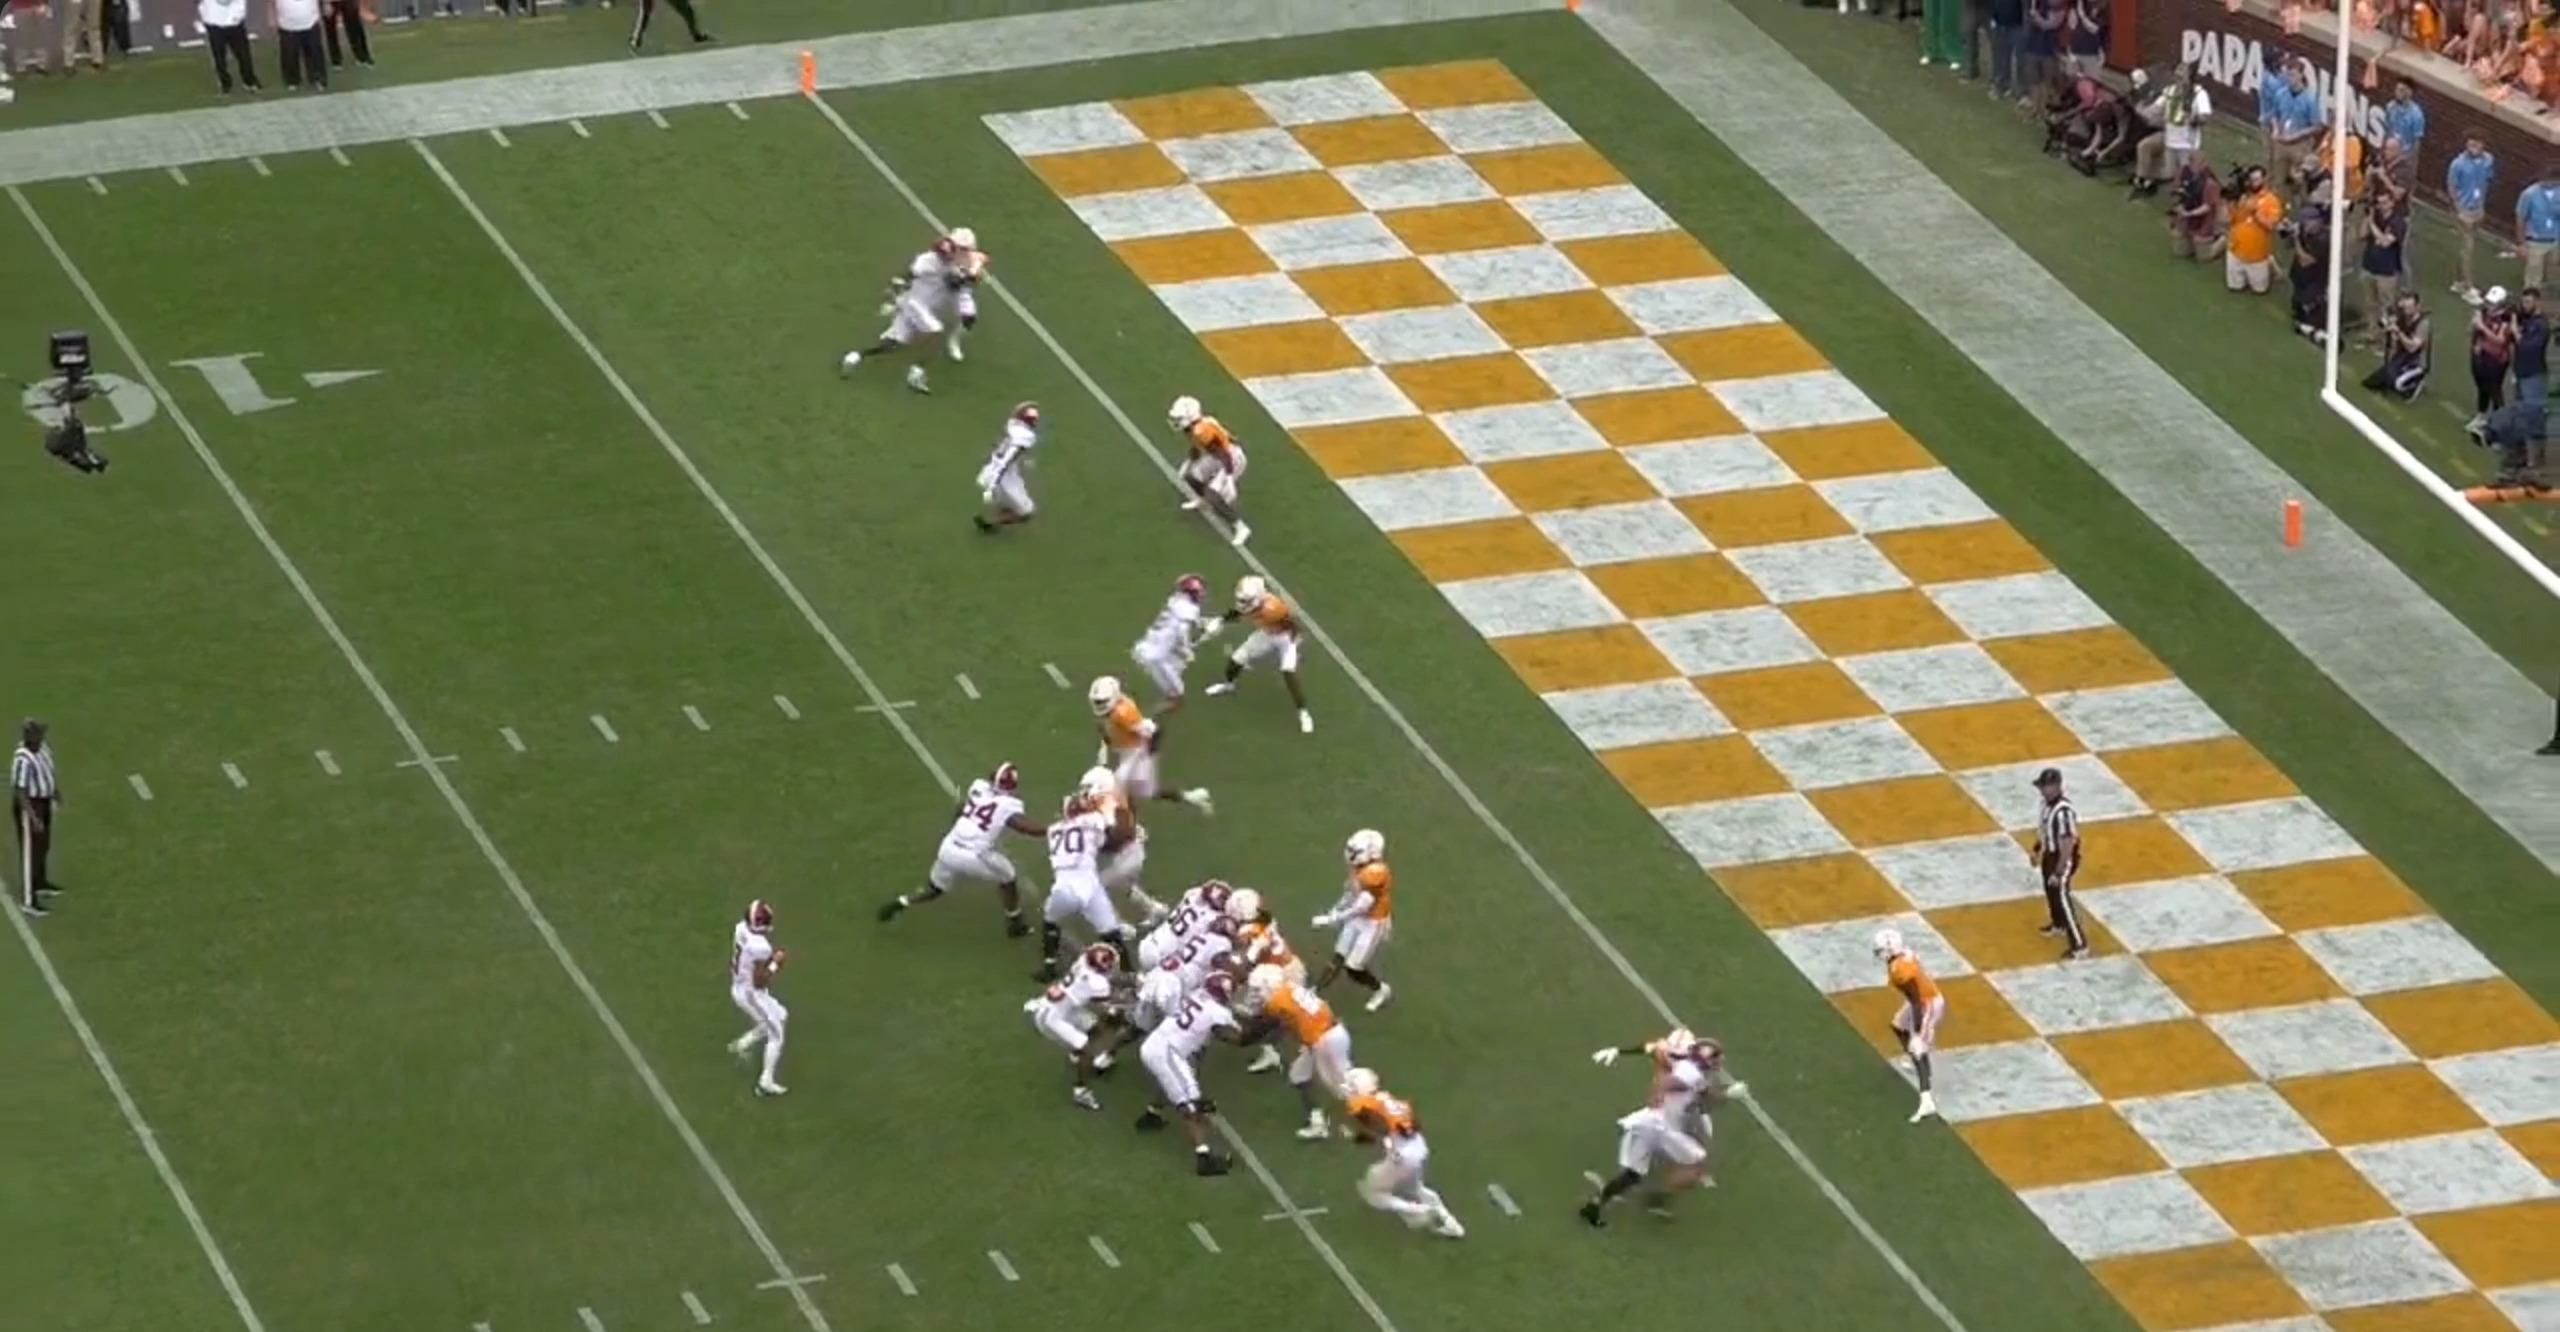defense: (1246, 944, 1383, 1156), (1334, 1063, 1470, 1246), (1834, 919, 1944, 1132), (1234, 895, 1351, 1080), (1585, 1021, 1769, 1137), (1073, 669, 1217, 817), (1309, 824, 1410, 1017), (1212, 567, 1324, 735), (1060, 763, 1163, 934), (1165, 388, 1260, 547), (930, 227, 997, 369)
oline: (880, 765, 1058, 944), (1126, 968, 1255, 1175), (1033, 789, 1156, 985), (1107, 912, 1243, 1060), (1109, 877, 1226, 1029)
qb: (723, 900, 803, 1109)
ref: (2023, 763, 2094, 970), (5, 718, 73, 931), (625, 0, 720, 56)
skill: (1573, 1032, 1752, 1234), (828, 228, 975, 394), (1038, 938, 1138, 1114), (1133, 569, 1226, 711), (963, 399, 1048, 548)
